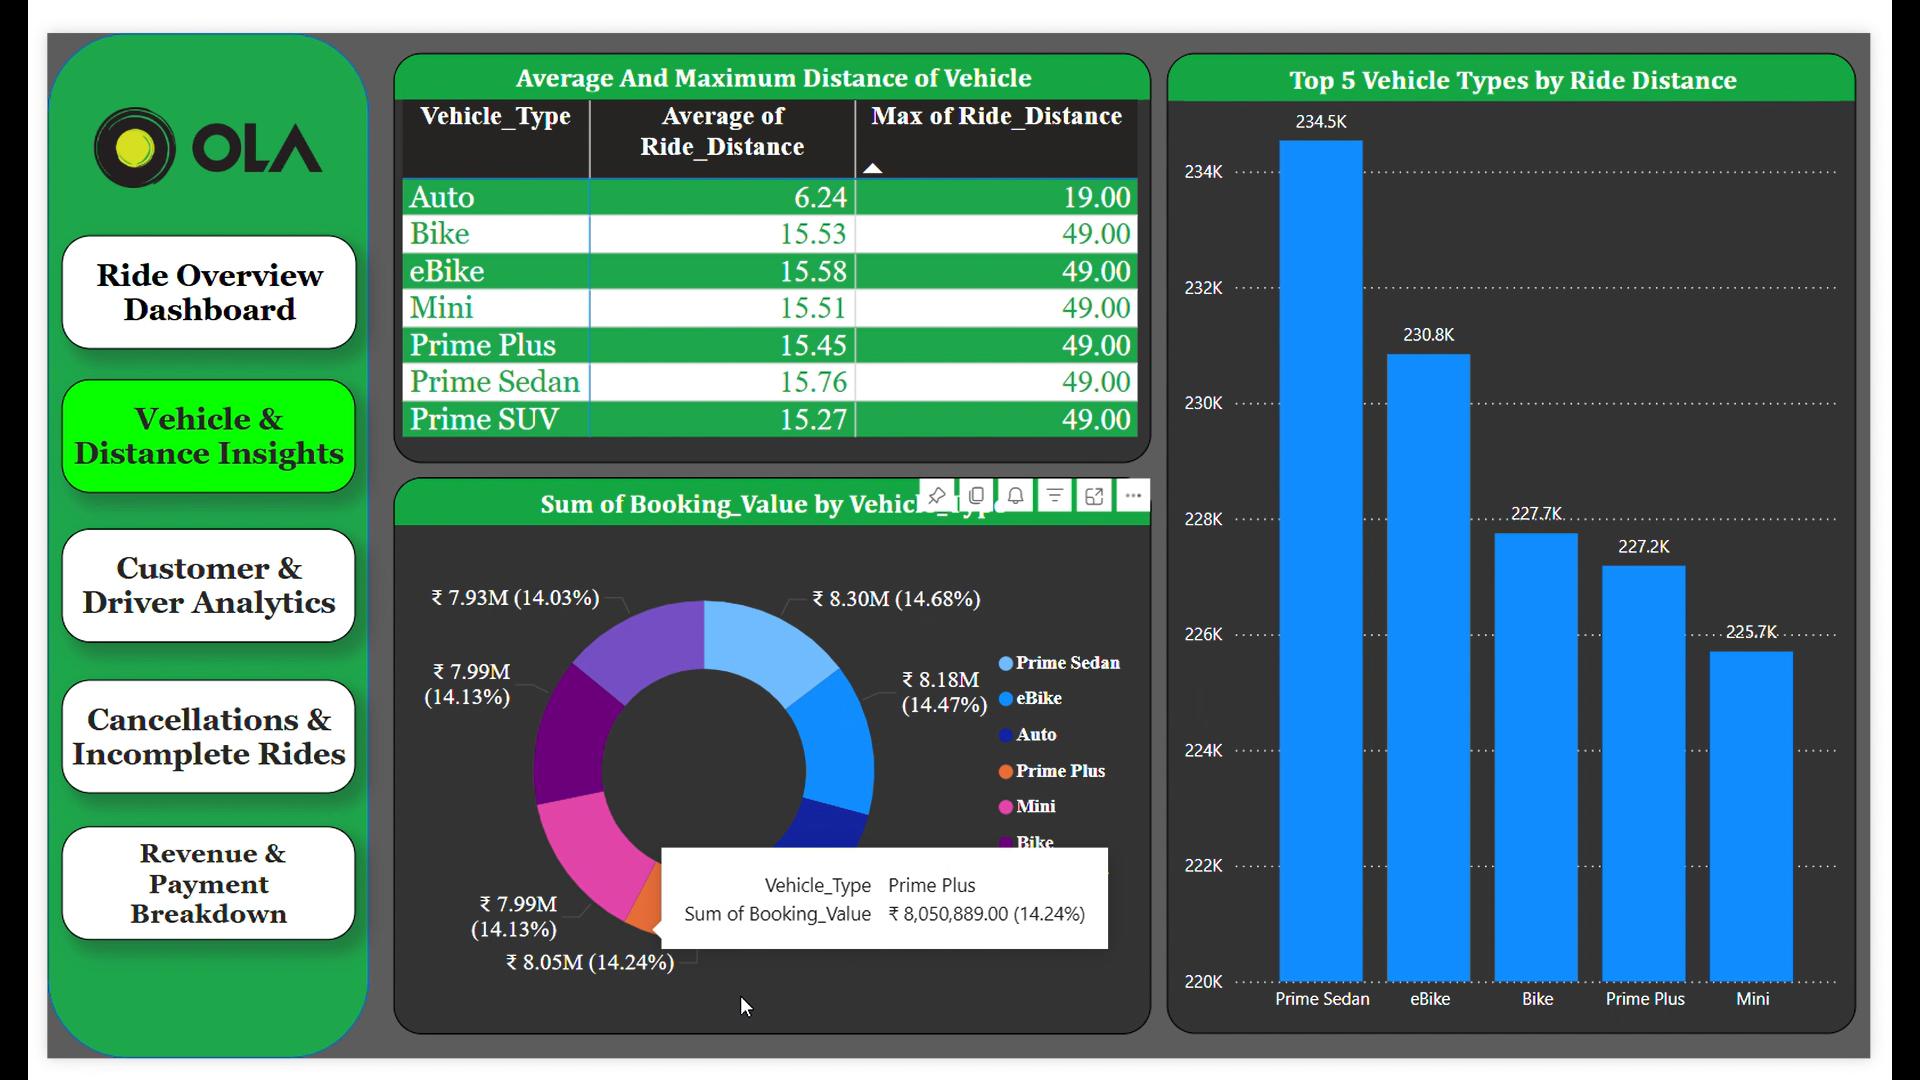

What the dashboard file says about the page in this screenshot:
{"tool":"powerbi","page":{"name":"Vehicle & Distance Insight","canvas":[1280,720],"ordinal":1},"visuals":[{"type":"shape","box":[0,0,225.7,720],"z":0},{"type":"image","box":[27.1,28.3,171.1,103.4],"z":1000},{"type":"textbox","box":[10.1,141.7,206.6,80.5],"z":2000},{"type":"textbox","box":[10,242.6,206.3,80.1],"z":3000},{"type":"textbox","box":[10,348.1,206.3,80.1],"z":4000},{"type":"textbox","box":[10,453.7,206.3,80.1],"z":5000},{"type":"textbox","box":[10,556.5,206.3,80.1],"z":6000},{"type":"actionButton","box":[10,141.4,205.7,80],"z":7000},{"type":"actionButton","box":[10,348.6,205.7,80],"z":8000},{"type":"actionButton","box":[10,242.9,205.7,80],"z":9000},{"type":"actionButton","box":[10,454.3,205.7,80],"z":10000},{"type":"actionButton","box":[10,557.1,205.7,80],"z":11000},{"type":"columnChart","title":" Top 5 Vehicle Types by Ride Distance","fields":{"Category":["July.Vehicle_Type"],"Y":["Sum(July.Ride_Distance)"]},"box":[786.1,13.9,484.2,688.7],"z":12000},{"type":"donutChart","fields":{"Category":["July.Vehicle_Type"],"Y":["Sum(July.Booking_Value)"]},"box":[243.5,311.7,531.5,391],"z":14000},{"type":"pivotTable","title":"Average And Maximum Distance of Vehicle","fields":{"Values":["Avg(July.Ride_Distance)","Max(July.Ride_Distance)"],"Rows":["July.Vehicle_Type"]},"box":[243.5,13.9,531.5,288],"z":15000}]}

Visuals, with their boxes in screenshot pixels (x1, y1, x2, y2), scaled from the page's 1280x720 canvas onto the 1920x1080 screenshot:
shape: <box>0,0,339,1079</box>
image: <box>41,42,297,198</box>
textbox: <box>15,213,325,333</box>
textbox: <box>15,364,324,484</box>
textbox: <box>15,522,324,642</box>
textbox: <box>15,681,324,801</box>
textbox: <box>15,835,324,955</box>
actionButton: <box>15,212,324,332</box>
actionButton: <box>15,523,324,643</box>
actionButton: <box>15,364,324,484</box>
actionButton: <box>15,681,324,801</box>
actionButton: <box>15,836,324,956</box>
" Top 5 Vehicle Types by Ride Distance" columnChart: <box>1179,21,1905,1054</box>
donutChart - July.Vehicle_Type x Sum(July.Booking_Value): <box>365,468,1162,1054</box>
"Average And Maximum Distance of Vehicle" pivotTable: <box>365,21,1162,453</box>
